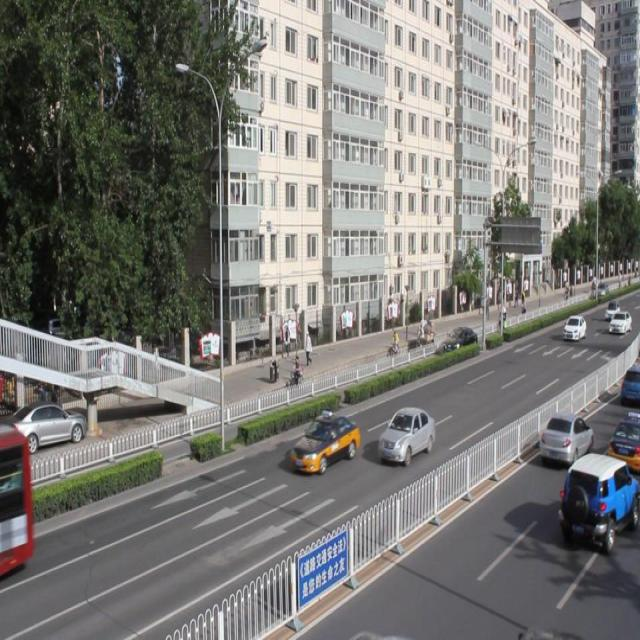car: (558, 450, 640, 547), (287, 413, 361, 475), (377, 405, 434, 464), (539, 411, 592, 465), (608, 413, 640, 470), (443, 326, 476, 355), (618, 363, 640, 402)
